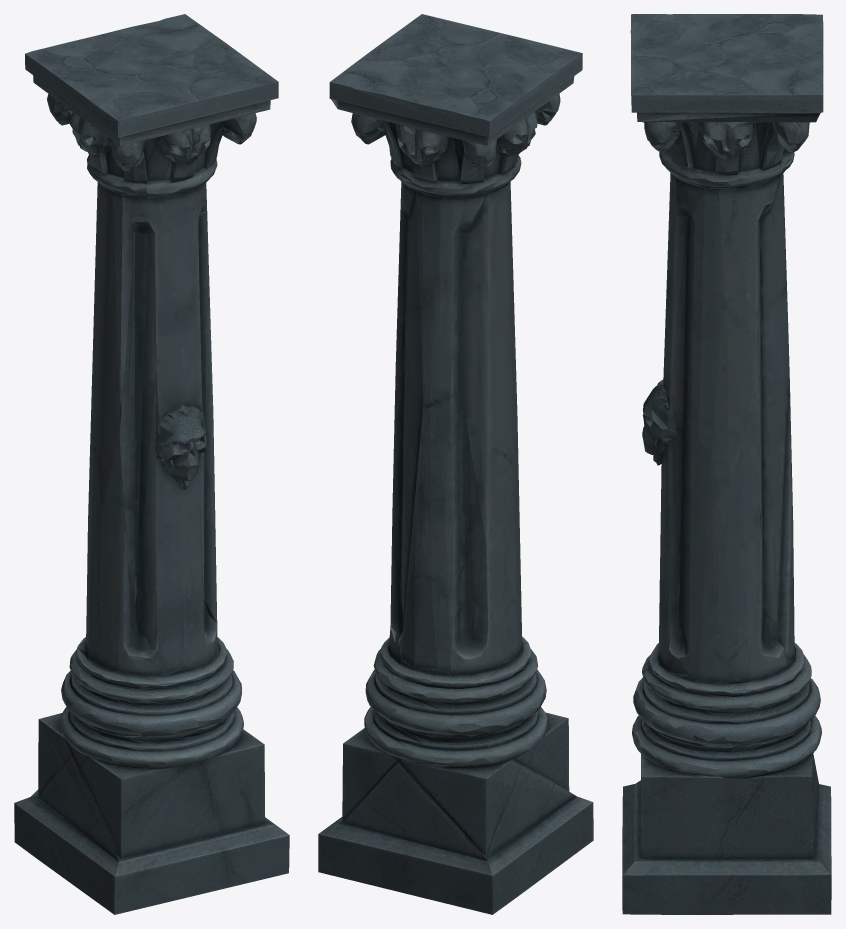
File: pillar.glb
3 renders of one model, left to right at view 1: azimuth 30°, elevation 25°; view 2: azimuth 150°, elevation 25°; view 3: azimuth 270°, elevation 25°, orthographic. The views are drawn at different scales.
Bounding box in the file's own units: 0.4413 × 1.9 × 0.4416.
Materials: 1 (1 with a texture image).
